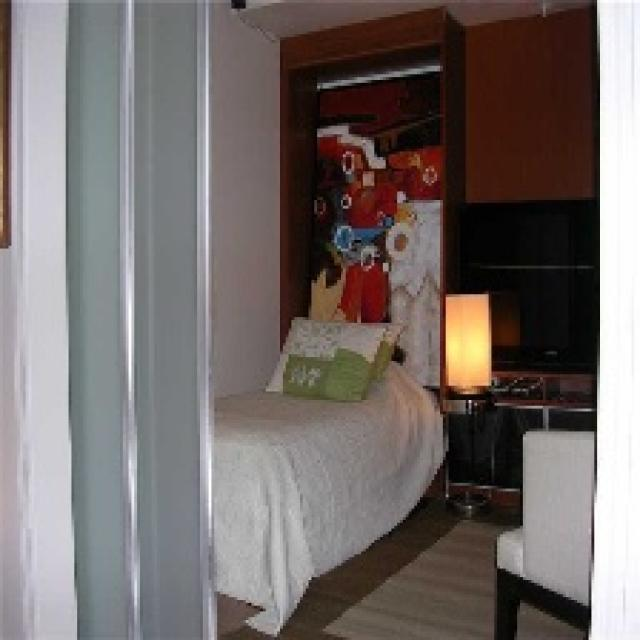bed: (208, 318, 428, 634)
lamp: (442, 289, 492, 400)
